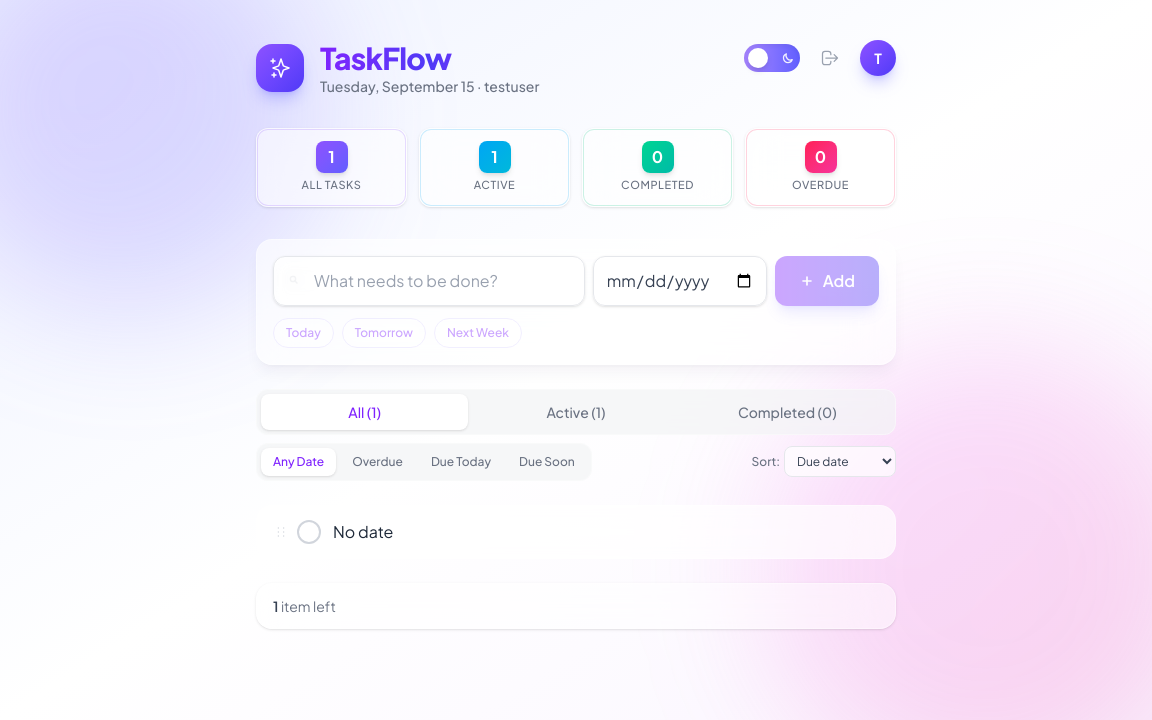
TodoApp › date filters › shows no match message when filter excludes all
This screenshot has width=1152, height=720.
Expected: the text "No date" is shown, [333,520,393,542]
Click the button "Due Today": x=461, y=462 [419,448,503,476]
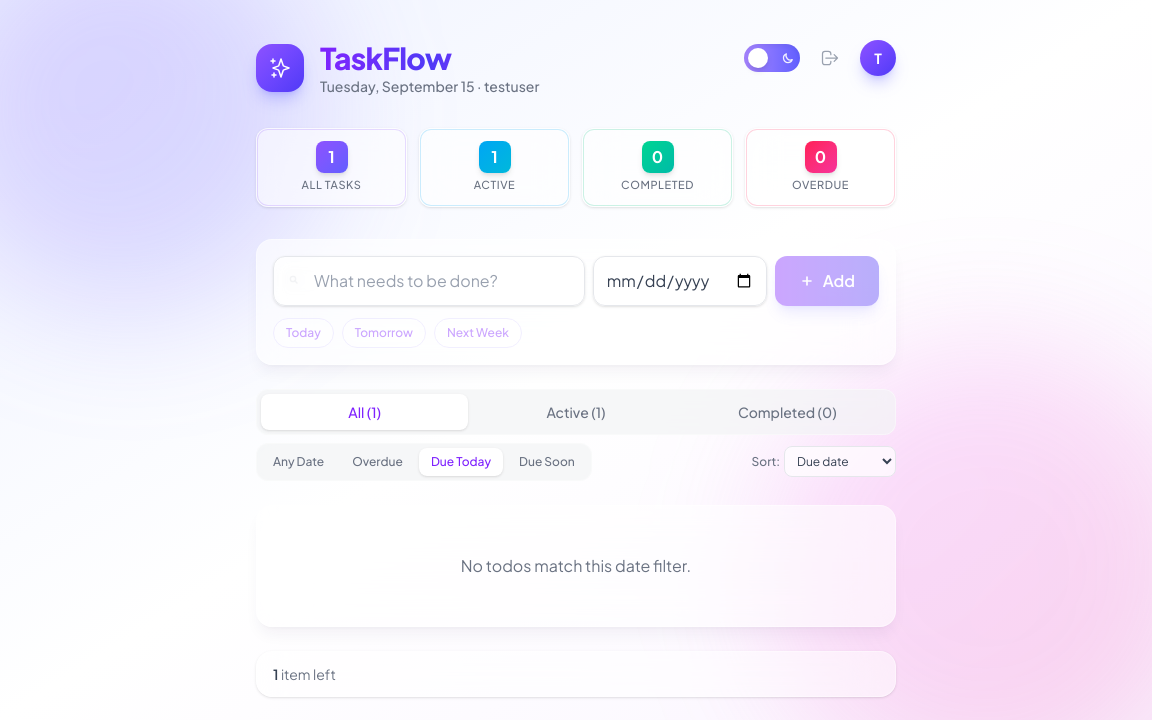
Expected: the text "No todos match this date filter." is shown, [461,554,691,576]
